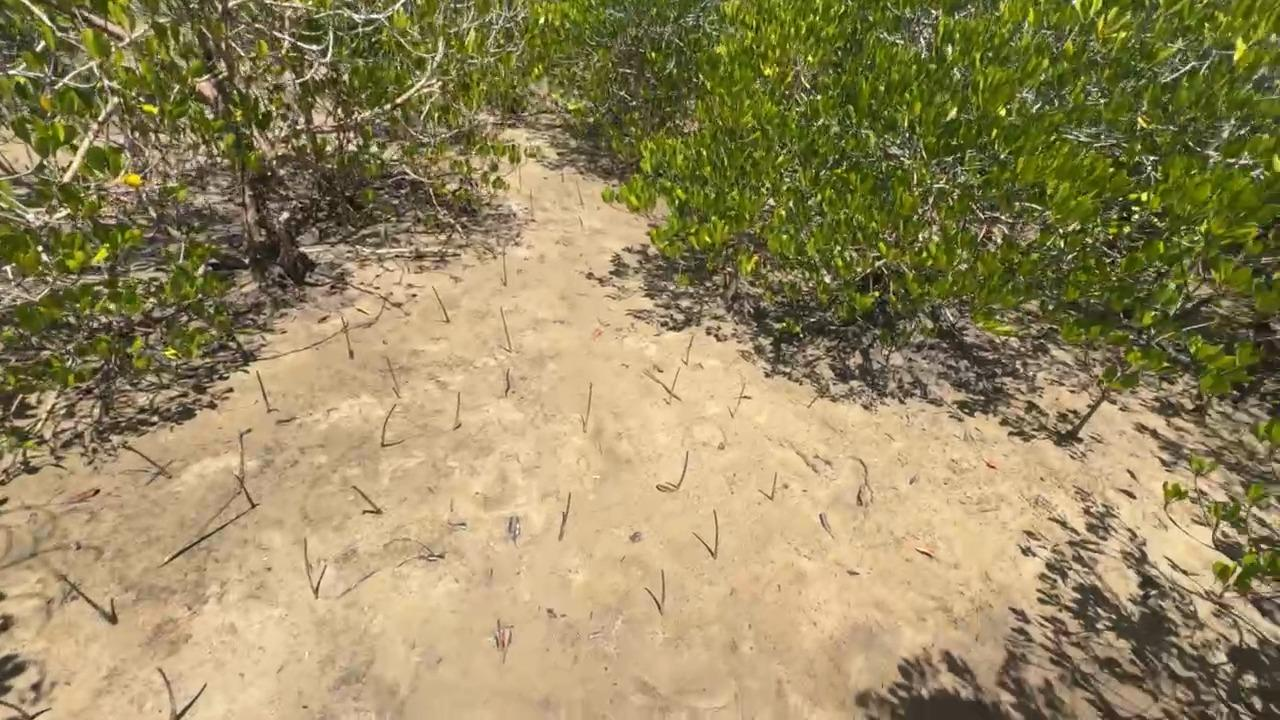Tree: (59, 574, 116, 624), (232, 427, 256, 508), (120, 443, 164, 473), (156, 666, 177, 720), (351, 485, 383, 514), (304, 537, 318, 599), (380, 403, 397, 447), (432, 286, 450, 323), (558, 492, 571, 541), (340, 316, 354, 360), (500, 306, 513, 353), (255, 370, 269, 413), (0, 700, 29, 720), (582, 382, 593, 433), (386, 356, 400, 394), (668, 366, 681, 405), (733, 383, 746, 417), (677, 451, 688, 489), (713, 509, 719, 560), (685, 336, 694, 366), (453, 391, 460, 428), (502, 244, 508, 286), (770, 472, 778, 501), (661, 569, 666, 615), (576, 180, 584, 206), (807, 394, 819, 409), (505, 367, 510, 396), (529, 189, 534, 217), (519, 165, 522, 189), (561, 173, 564, 182)
